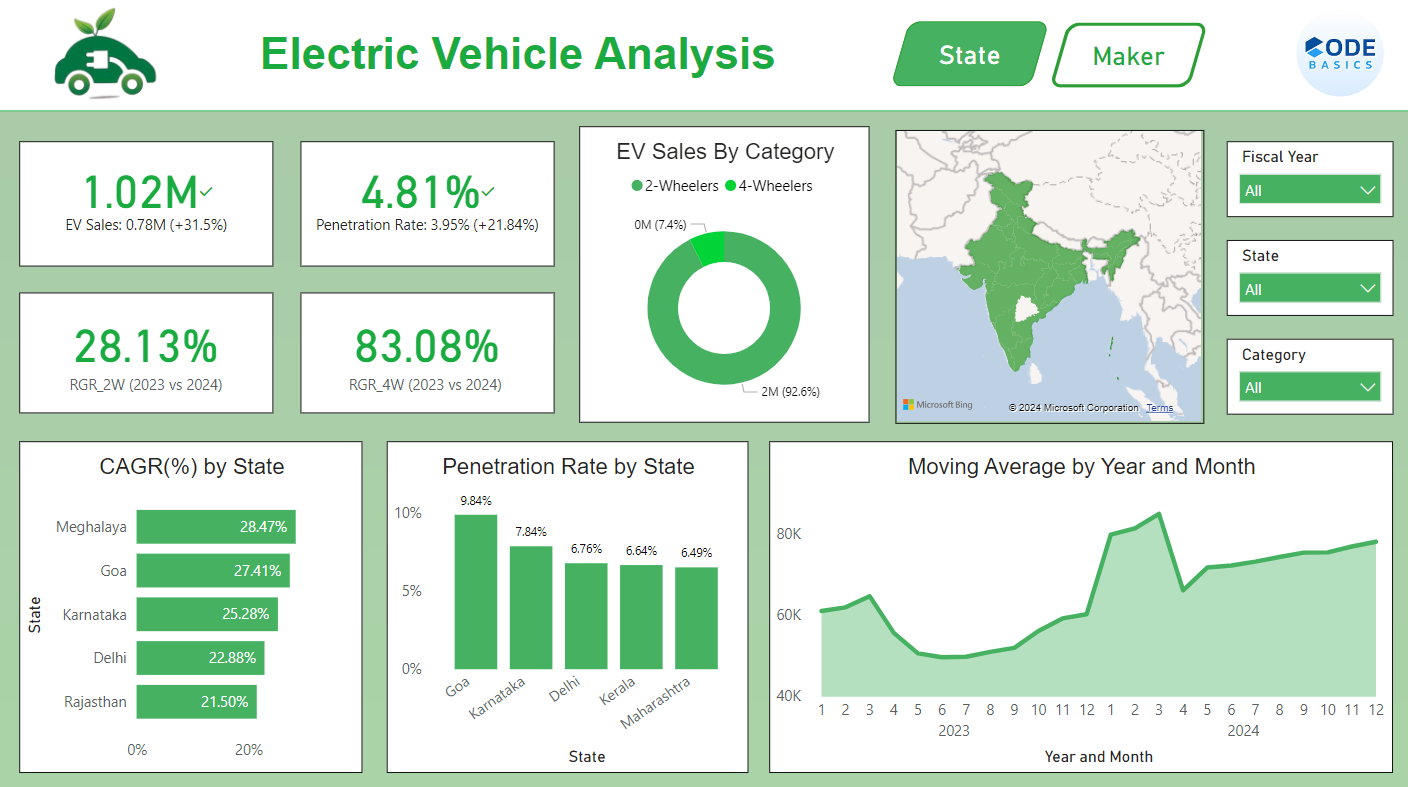

The dashboard page shown, as its layout file describes it:
{"tool":"powerbi","page":{"name":"Electric Vehicle Analysis","canvas":[1280,720],"ordinal":0},"visuals":[{"type":"shape","box":[813.7,122.1,279.9,266.2],"z":0},{"type":"shape","box":[0,0,1280.3,105.7],"z":1000},{"type":"kpi","fields":{"Goal":["Key Measures.EV_Sales(2023)"],"Indicator":["Key Measures.Current_EV_Sales"],"TrendLine":["dim_date.Fiscal Year"]},"box":[19.2,133.1,230.5,113.9],"z":2000},{"type":"filledMap","fields":{"Category":["dim_vehicle_state.State"]},"box":[811,123.5,285.4,267.6],"z":3000},{"type":"donutChart","title":"EV Sales By Category","fields":{"Category":["dim_vehicle_category.Vehicle Category"],"Y":["Key Measures.Total_EV_Sold"]},"box":[526.9,122.1,263.5,266.2],"z":4000},{"type":"barChart","title":"CAGR(%) by State","fields":{"Category":["dim_vehicle_state.State"],"Y":["Key Measures.CAGR_Total_Vehicles"]},"box":[19.2,404.8,311.5,300.5],"z":5000},{"type":"slicer","fields":{"Values":["dim_date.Fiscal Year"]},"box":[1114.2,133.1,150.9,68.6],"z":6000},{"type":"lineStackedColumnComboChart","title":"Penetration Rate by State","fields":{"Category":["dim_vehicle_state.State"],"Y":["Key Measures.Penetration_Rate"]},"box":[352.7,404.8,328,300.5],"z":7000},{"type":"kpi","fields":{"TrendLine":["dim_date.Fiscal Year"],"Goal":["Key Measures.Penetration_Rate(2023)"],"Indicator":["Key Measures.Current_Penetration_Rate"]},"box":[274.4,133.1,230.5,113.9],"z":8000},{"type":"card","fields":{"Values":["Key Measures.Revenue_Growth_Rate_2W(2023 vs 2024)"]},"box":[19.2,270.3,230.5,109.8],"z":9000},{"type":"card","fields":{"Values":["Key Measures.Revenue_Growth_Rate_4W(2023 vs 2024)"]},"box":[274.4,270.3,230.5,109.8],"z":10000},{"type":"shape","box":[175.6,1.4,591.4,104.3],"z":11000},{"type":"lineChart","title":"Moving Average by Year and Month","fields":{"Y":["Key Measures.MovingAverage_12Months"],"Category":["dim_date.Fiscal Year","dim_date.Month"]},"box":[699.8,404.8,565.4,300.5],"z":12000},{"type":"image","box":[1169.1,8.2,96.1,89.2],"z":13000},{"type":"slicer","fields":{"Values":["dim_vehicle_state.State"]},"box":[1114.2,222.3,150.9,68.6],"z":14000},{"type":"slicer","fields":{"Values":["dim_vehicle_category.Vehicle Category"]},"box":[1114.2,311.5,150.9,68.6],"z":15000},{"type":"shape","box":[809.6,23.3,144.1,59],"z":16000},{"type":"shape","box":[953.7,24.7,144.1,59],"z":17000},{"type":"image","box":[19.2,0,156.4,105.7],"z":18000}]}

Visuals, with their boxes in screenshot pixels (x1, y1, x2, y2), scaled from the page's 1280x720 canvas onto the 1408x787 screenshot:
shape: box=[895, 133, 1203, 424]
shape: box=[0, 0, 1407, 116]
kpi - Key Measures.EV_Sales(2023) x Key Measures.Current_EV_Sales: box=[21, 145, 275, 270]
filledMap - dim_vehicle_state.State: box=[892, 135, 1206, 427]
"EV Sales By Category" donutChart: box=[580, 133, 869, 424]
"CAGR(%) by State" barChart: box=[21, 442, 364, 771]
slicer - dim_date.Fiscal Year: box=[1226, 145, 1392, 220]
"Penetration Rate by State" lineStackedColumnComboChart: box=[388, 442, 749, 771]
kpi - dim_date.Fiscal Year x Key Measures.Penetration_Rate(2023): box=[302, 145, 555, 270]
card - Key Measures.Revenue_Growth_Rate_2W(2023 vs 2024): box=[21, 295, 275, 415]
card - Key Measures.Revenue_Growth_Rate_4W(2023 vs 2024): box=[302, 295, 555, 415]
shape: box=[193, 2, 844, 116]
"Moving Average by Year and Month" lineChart: box=[770, 442, 1392, 771]
image: box=[1286, 9, 1392, 106]
slicer - dim_vehicle_state.State: box=[1226, 243, 1392, 318]
slicer - dim_vehicle_category.Vehicle Category: box=[1226, 340, 1392, 415]
shape: box=[891, 25, 1049, 90]
shape: box=[1049, 27, 1208, 91]
image: box=[21, 0, 193, 116]
